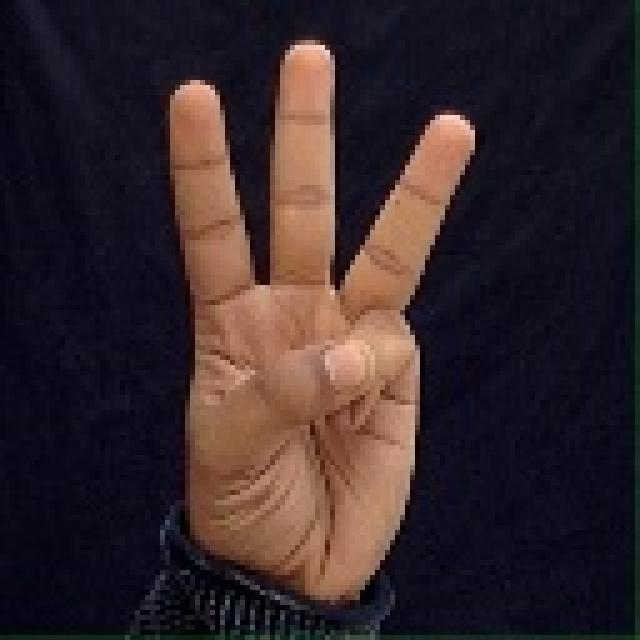Numeric-3: (162, 34, 478, 608), (504, 552, 505, 554)
